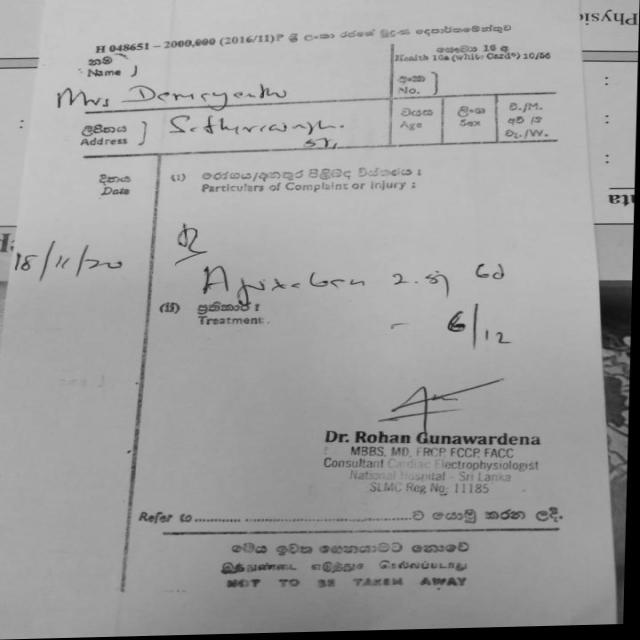Prescription: (197, 253, 530, 362)
